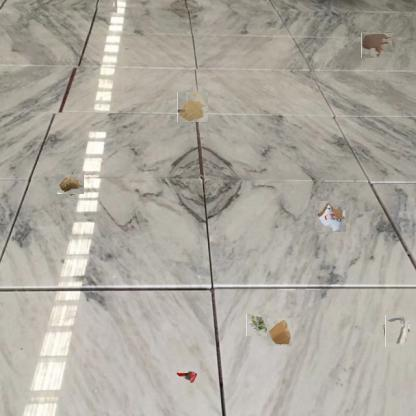dirty: (314, 200, 346, 232), (383, 318, 411, 345), (267, 318, 293, 346), (58, 172, 82, 196), (246, 314, 269, 336), (175, 368, 199, 386)
liquid: (178, 92, 209, 123), (361, 32, 392, 58)
